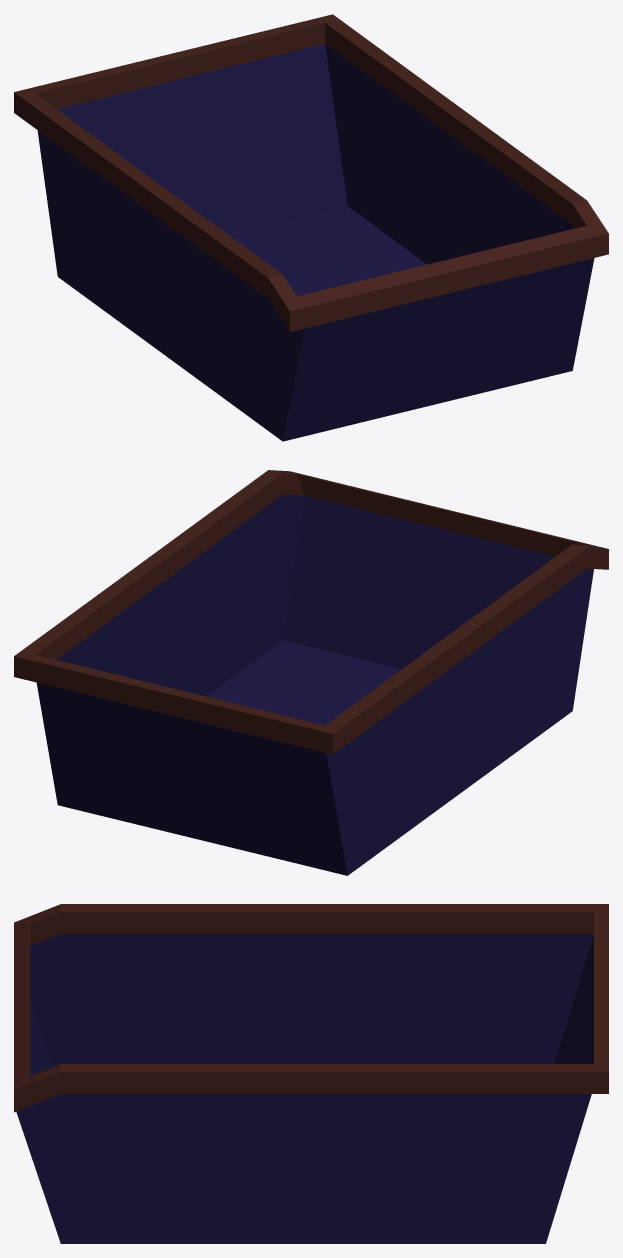
File: SkipColoured.fbx
3 views of the same model, one above another, from view 1: azimuth 30°, elevation 25°; view 2: azimuth 150°, elevation 25°; view 3: azimuth 270°, elevation 25° (orthographic). The views are drawn at different scales.
Visible parts, largest first — view 1: Cube; view 2: Cube; view 3: Cube.
Boxes of the visible parts, <box> form: Cube: <box>14,14,608,441</box>; Cube: <box>14,470,608,875</box>; Cube: <box>14,904,608,1243</box>.
Size of the model in its own units: 400 by 200 by 600.
